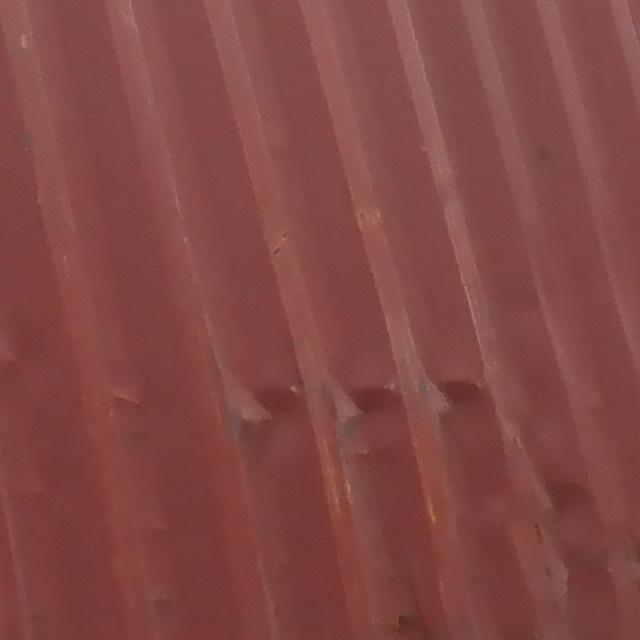dent: (210, 339, 511, 432), (524, 474, 626, 640)
